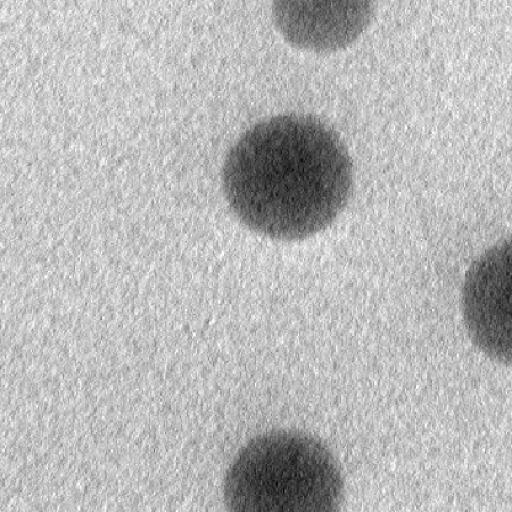Nanoparticles: (222, 110, 358, 242), (222, 427, 343, 512), (461, 240, 512, 370), (269, 1, 379, 50)
